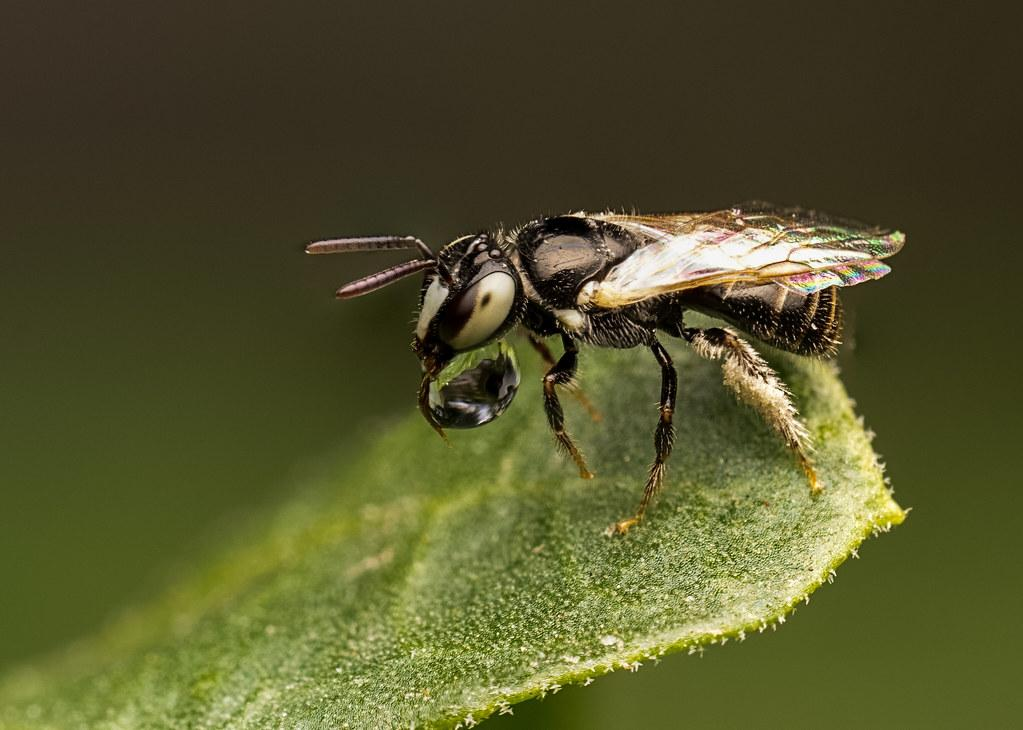Braunsapis: (301, 183, 923, 505)
